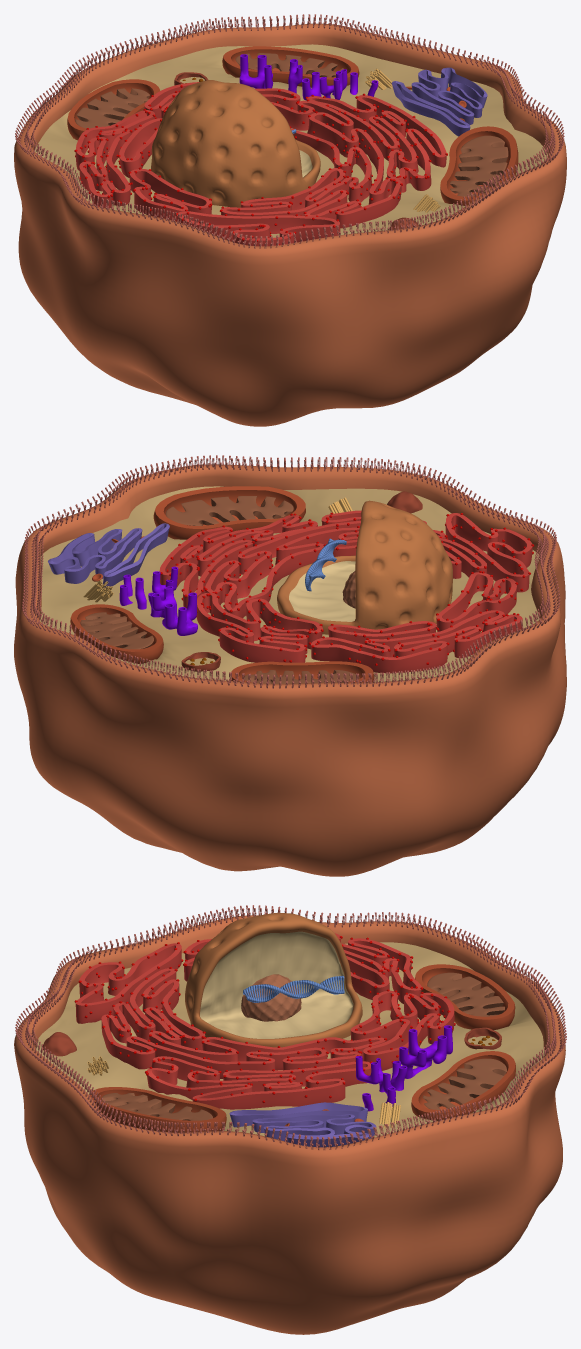
The model's file is human_cell.glb.
3 views of the same model, one above another, from view 1: azimuth 30°, elevation 25°; view 2: azimuth 150°, elevation 25°; view 3: azimuth 270°, elevation 25° (orthographic). The views are drawn at different scales.
Visible parts, largest first — view 1: Base_2, Retic_15, Core_3, Vors_5, MITOH_4, GojB_9, Icosphere001_16, Smooth_Re_13, Centros_11; view 2: Base_2, Retic_15, Core_3, MITOH_4, Vors_5, GojB_9, Icosphere001_16, Smooth_Re_13, DNA_0, Centros_11, Lyb001_14, Lyb_12; view 3: Base_2, Retic_15, Core_3, MITOH_4, Vors_5, GojB_9, Smooth_Re_13, Icosphere001_16, DNA_0, Centros_11, Lyb_12, Lyb001_14.
Boxes of the visible parts, x1,y1,x2,y2 form: Base_2: [14, 23, 566, 426]; Retic_15: [75, 82, 446, 246]; Core_3: [151, 80, 320, 207]; Vors_5: [15, 14, 564, 248]; MITOH_4: [67, 46, 518, 205]; GojB_9: [391, 67, 487, 136]; Icosphere001_16: [74, 85, 447, 245]; Smooth_Re_13: [239, 54, 378, 100]; Centros_11: [365, 68, 440, 212]; Base_2: [14, 464, 566, 876]; Retic_15: [159, 510, 532, 673]; Core_3: [277, 500, 452, 634]; MITOH_4: [70, 486, 374, 683]; Vors_5: [22, 455, 560, 688]; GojB_9: [48, 523, 169, 587]; Icosphere001_16: [160, 512, 534, 665]; Smooth_Re_13: [119, 566, 197, 635]; DNA_0: [305, 538, 346, 591]; Centros_11: [83, 497, 352, 602]; Lyb001_14: [181, 652, 220, 671]; Lyb_12: [387, 491, 422, 513]; Base_2: [14, 915, 565, 1334]; Retic_15: [75, 933, 454, 1109]; Core_3: [185, 913, 362, 1047]; MITOH_4: [89, 964, 515, 1132]; Vors_5: [15, 905, 566, 1150]; GojB_9: [229, 1102, 376, 1147]; Smooth_Re_13: [355, 1025, 452, 1111]; Icosphere001_16: [74, 936, 455, 1102]; DNA_0: [243, 975, 344, 1002]; Centros_11: [87, 1056, 400, 1127]; Lyb_12: [42, 1032, 76, 1056]; Lyb001_14: [464, 1027, 501, 1049].
Bounding box in the file's own units: 1.9 × 1.21 × 1.85.
